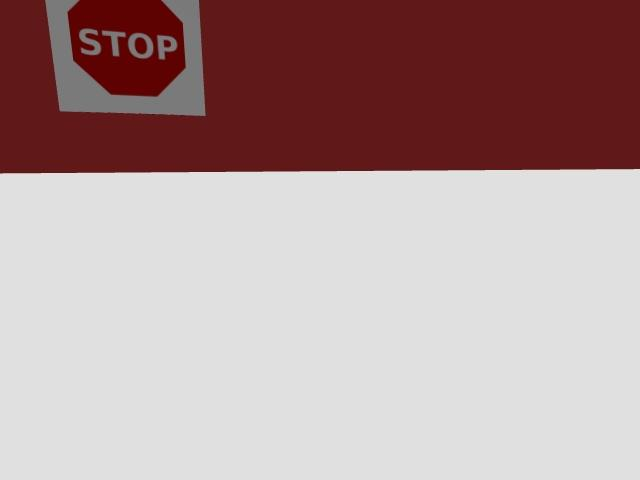stop: (45, 0, 203, 116)
